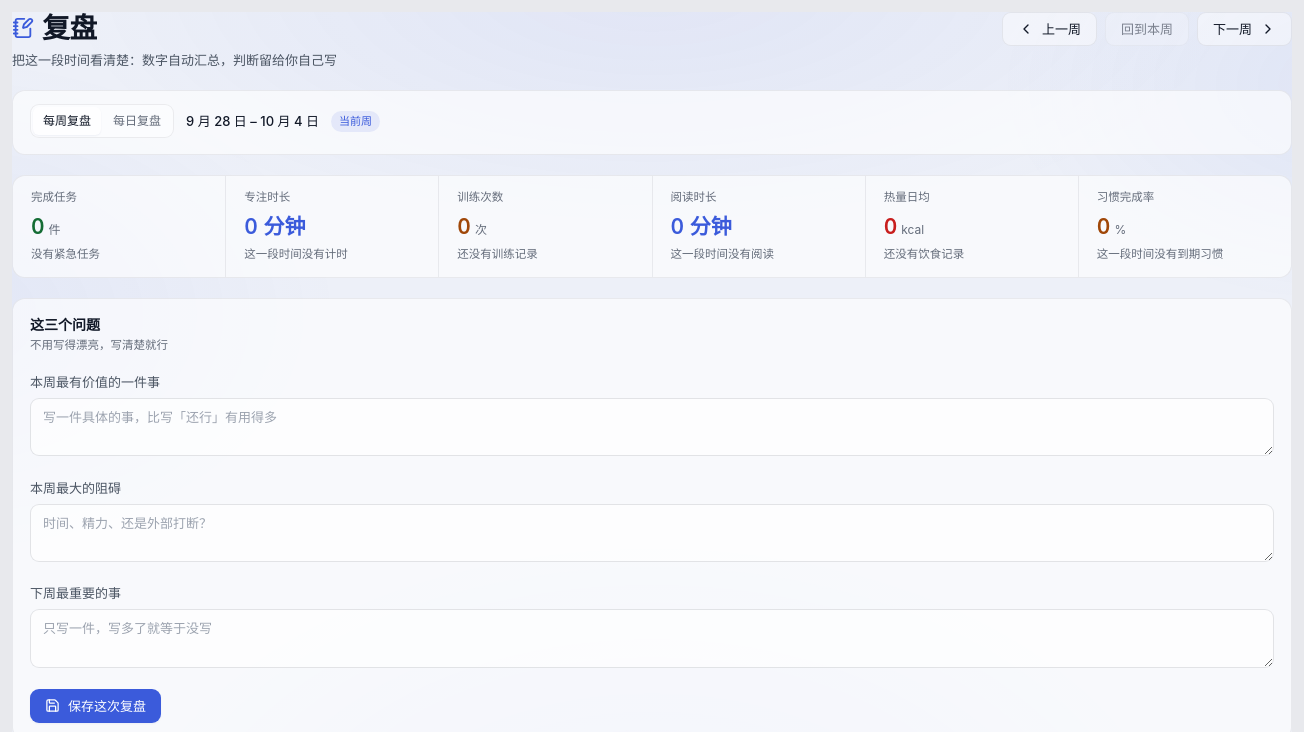
ReviewPage 填写 › 保存写进 store，并提示已保存
Type "写完了复盘页" into the text box labelled "本周最有价值的一件事" at coordinates (652, 427), box [30, 398, 1274, 456]
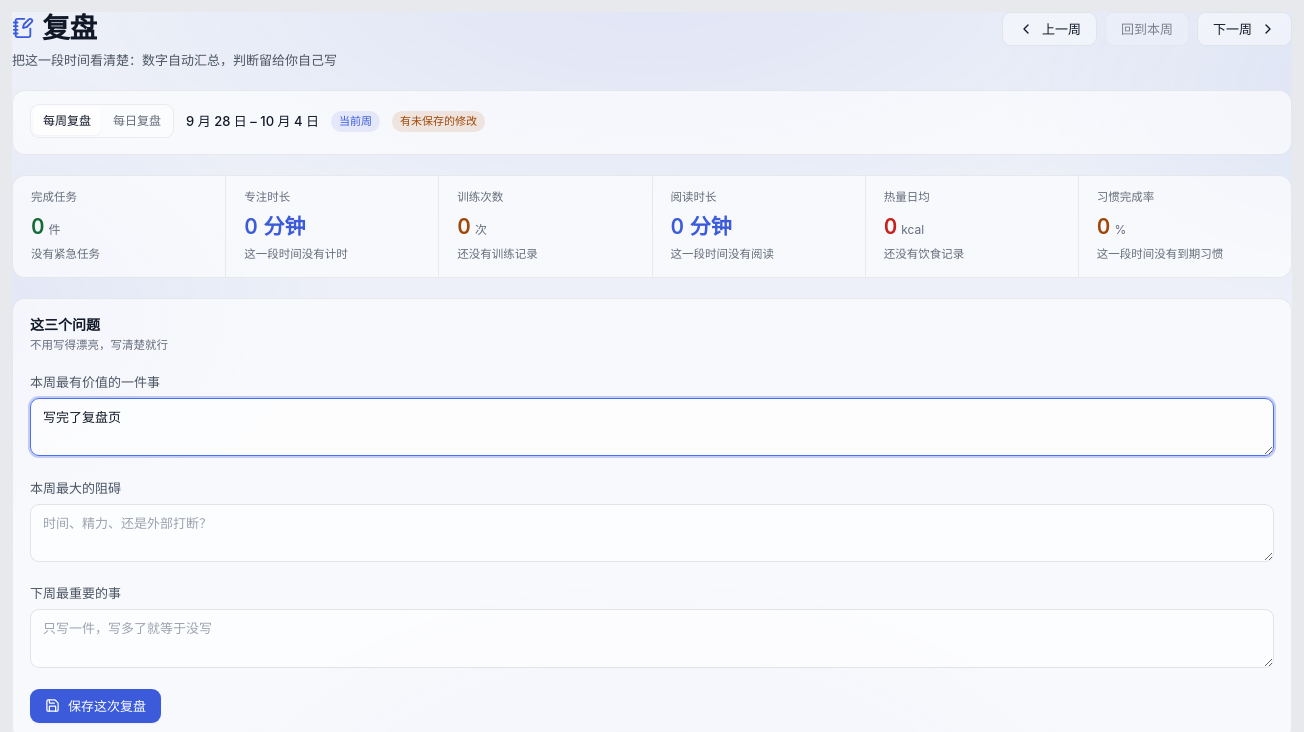
Click the button "保存这次复盘" at coordinates (96, 706), box [30, 689, 161, 723]
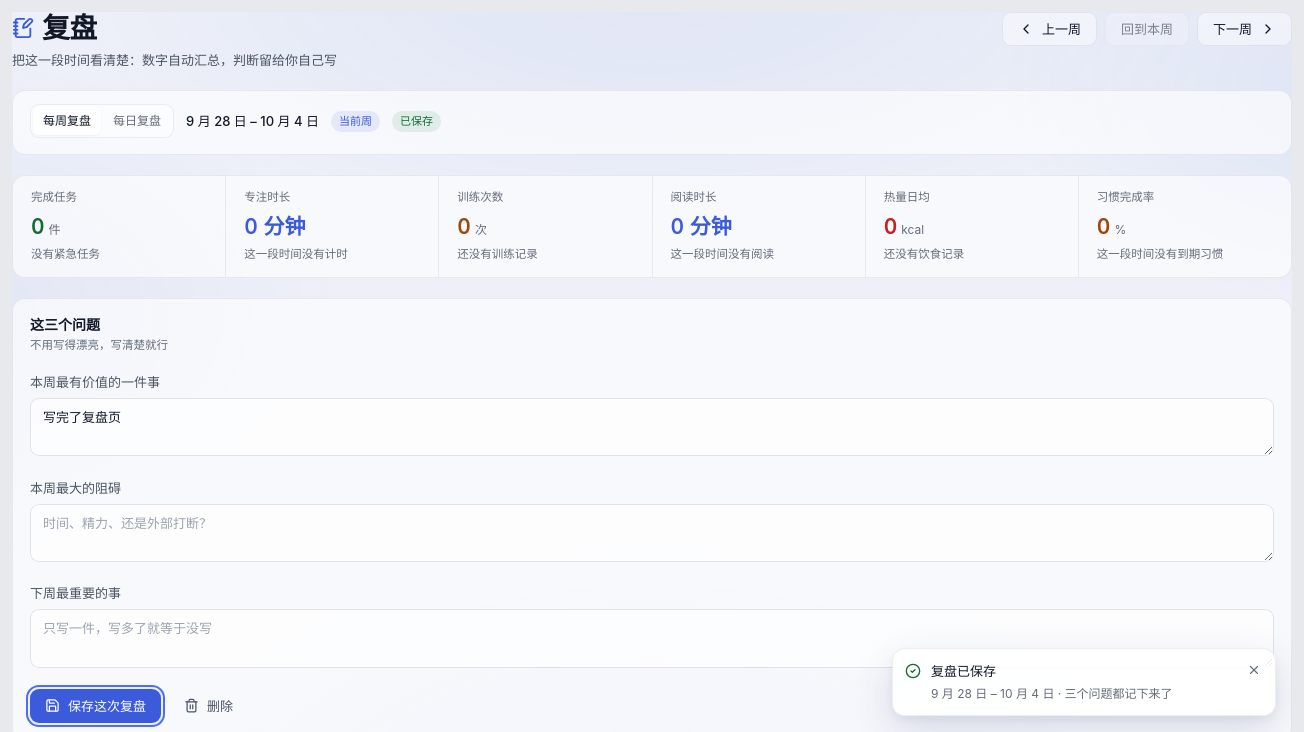
Now the text "复盘已保存" is shown, box [931, 663, 996, 679]
Now the text "已保存" is shown, box [392, 111, 441, 132]
